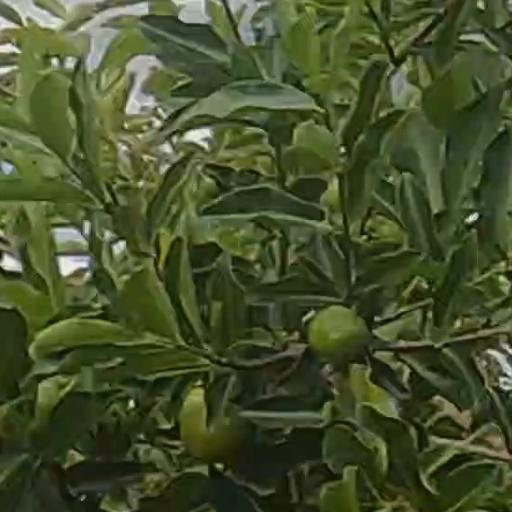acerola_verde: (182, 388, 244, 456), (311, 304, 363, 362)
